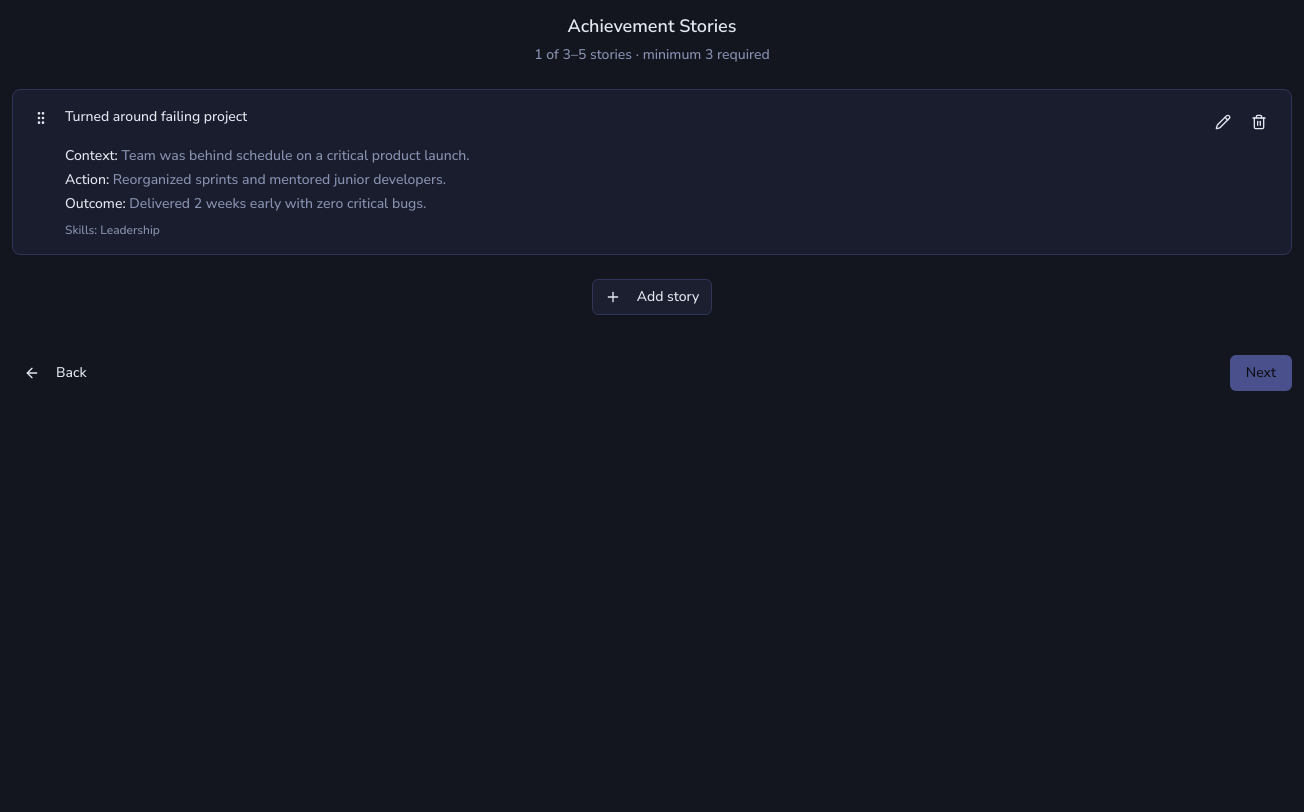
Test case: StoryStep › Edit flow › clicking edit shows form with pre-filled values
Click the button named "Edit Turned around failing project".
click(1223, 122)  # box [1207,106,1239,138]
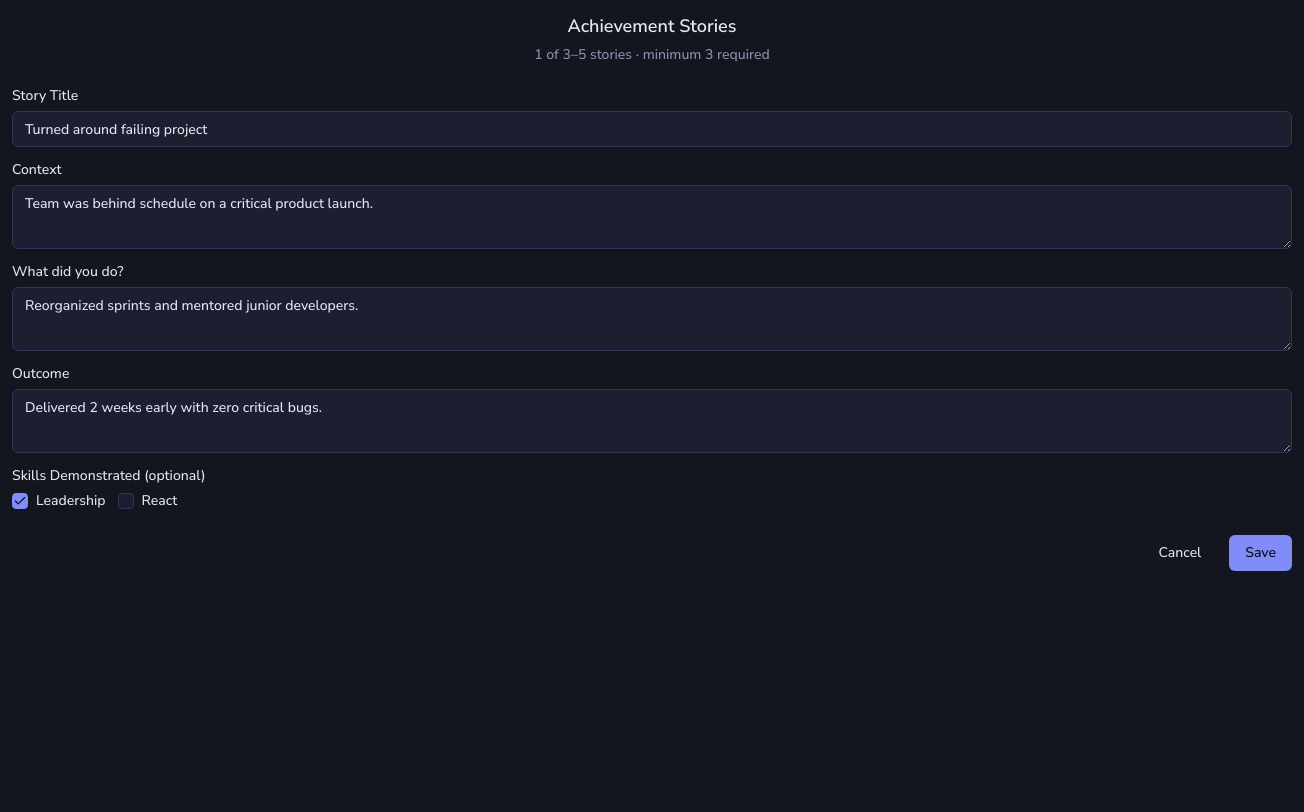
Expected: the element with test id "story-form" is shown, [12,89,1292,571]
Expected: the field labelled "Story Title" holds "Turned around failing project", [12,111,1292,147]
Expected: the text box labelled "Context" holds "Team was behind schedule on a critical product launch.", [12,185,1292,249]
